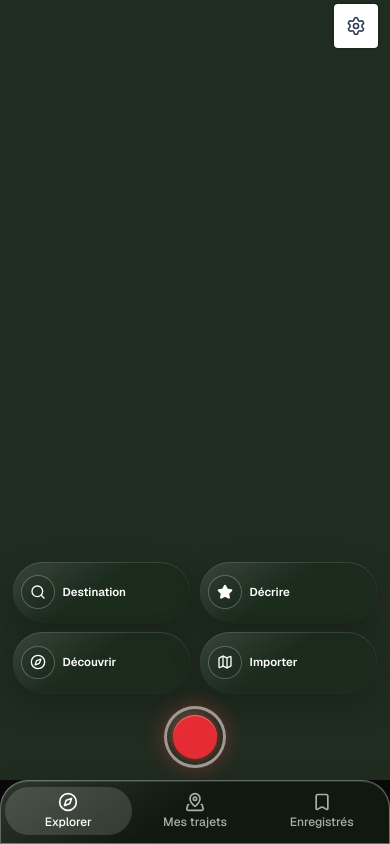
Test: Home explorer (FR-014, FR-031) › exposes route preferences in Réglages, not in Décrire mon trajet (FR-031, FR-034)
The image size is (390, 844).
Click the button with aria-label "Décrire mon trajet": (288, 592) [199, 561, 378, 623]
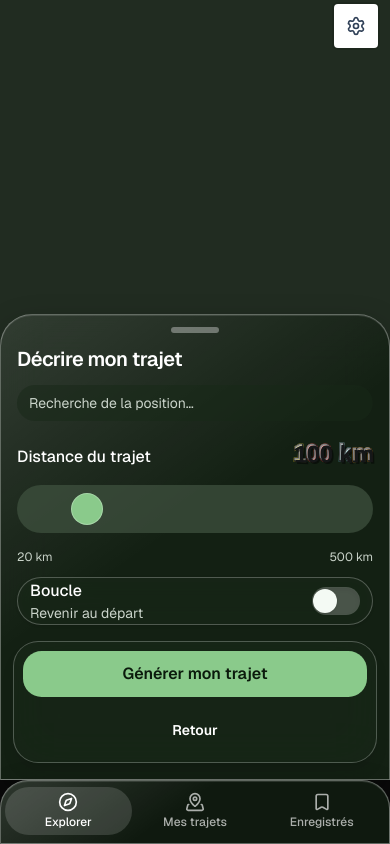
Expected: the field labelled "Éviter les autoroutes" is not shown
Expected: the field labelled "Éviter les routes non pavées" is not shown
Click the button named "Réglages": (356, 26) [334, 4, 378, 48]
(page scrolled)
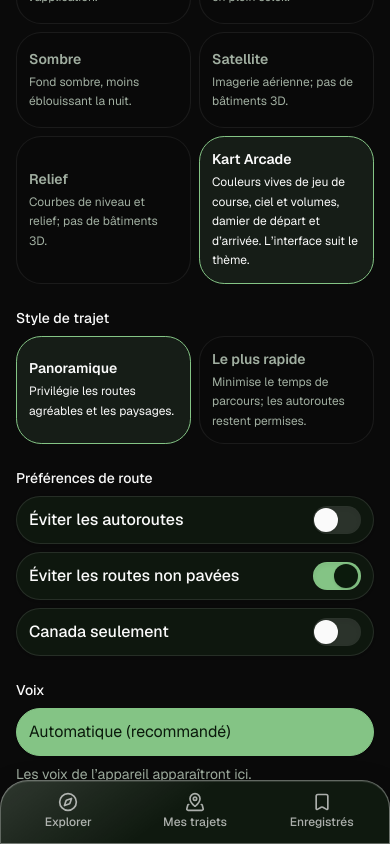
Now the switch named "Éviter les autoroutes" next to "Éviter les autoroutes" is not checked, box [313, 506, 361, 534]
Now the switch named "Éviter les routes non pavées" next to "Éviter les routes non pavées" is checked, box [313, 562, 361, 590]
Now the switch named "Canada seulement" next to "Canada seulement" is not checked, box [313, 618, 361, 646]
